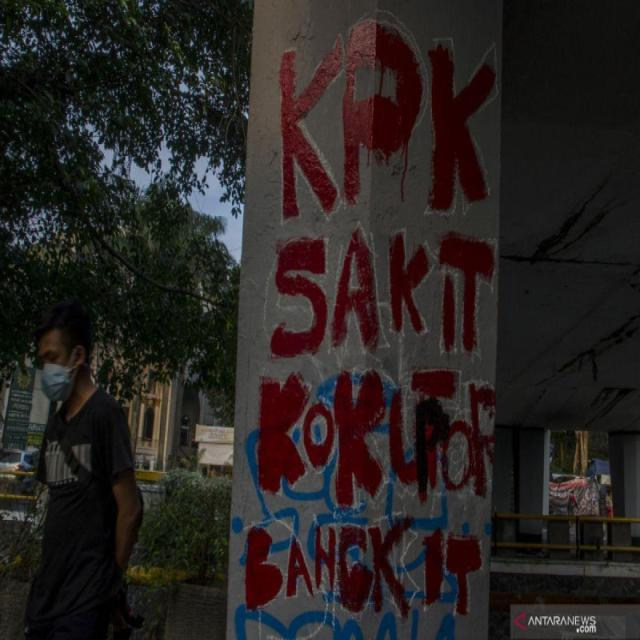nonspitting: (241, 15, 499, 612)
